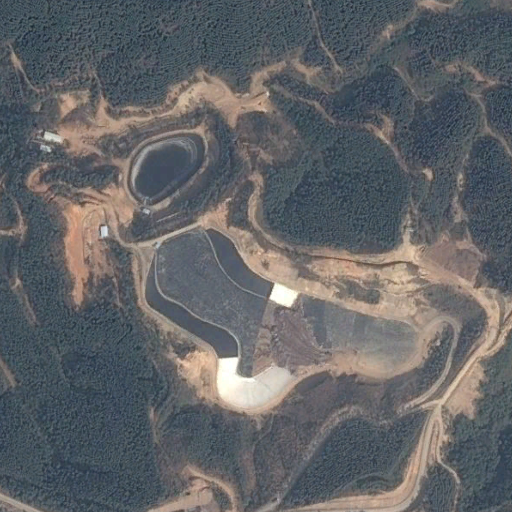lf: (143, 228, 430, 411)
